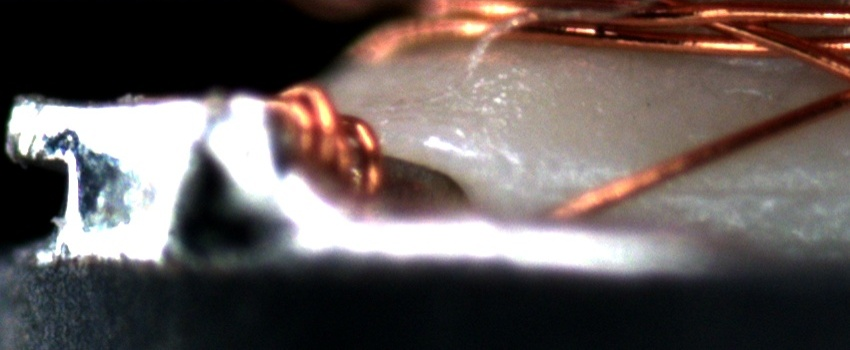CL: (829, 57, 850, 110)
DL: (647, 151, 850, 218)
TE: (271, 81, 390, 207)
